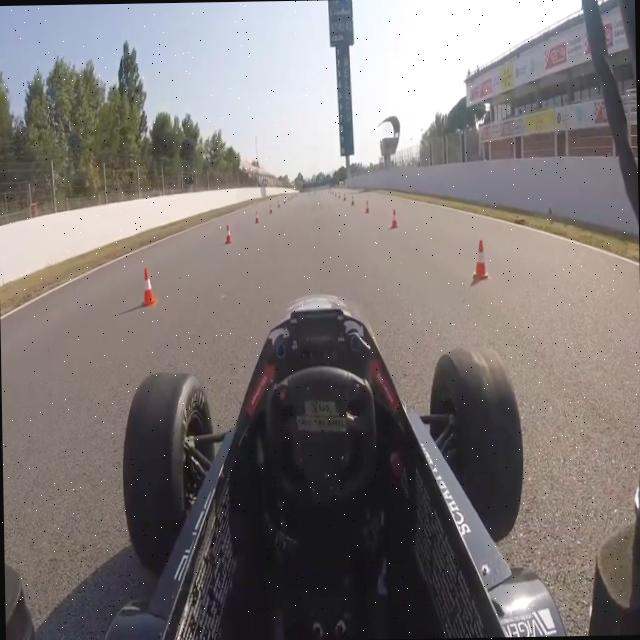orange_cone: (470, 230, 490, 290), (140, 259, 162, 313), (387, 200, 401, 233), (220, 220, 235, 250), (361, 192, 376, 218), (246, 203, 261, 229)
